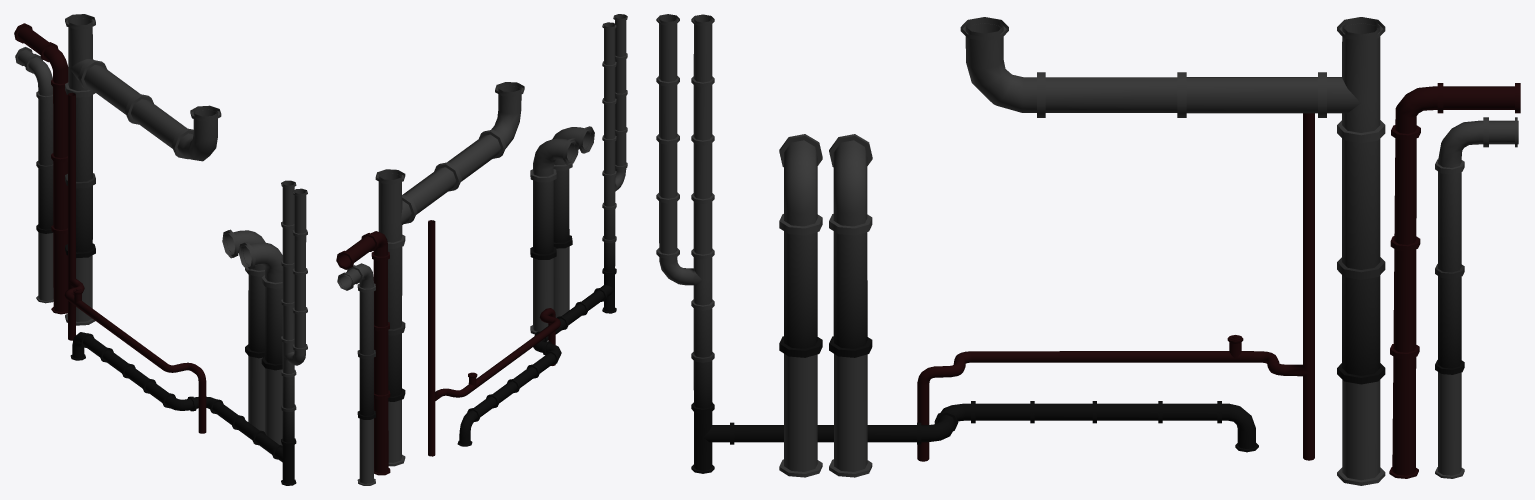
Rendered from SM_H_Building_Tide_Jail_C_04_Pipeline_ATLAS.fbx.
The picture shows the model from 3 angles, left to right: view 1: azimuth 30°, elevation 25°; view 2: azimuth 150°, elevation 25°; view 3: azimuth 270°, elevation 25°; orthographic projection. The views are drawn at different scales.
Visible parts, largest first — view 1: SM_H_Building_Tide_Jail_C_04_Pipeline_ATLAS; view 2: SM_H_Building_Tide_Jail_C_04_Pipeline_ATLAS; view 3: SM_H_Building_Tide_Jail_C_04_Pipeline_ATLAS.
Boxes of the visible parts, bbox=[...] form: SM_H_Building_Tide_Jail_C_04_Pipeline_ATLAS: bbox=[14, 14, 307, 485]; SM_H_Building_Tide_Jail_C_04_Pipeline_ATLAS: bbox=[336, 14, 627, 485]; SM_H_Building_Tide_Jail_C_04_Pipeline_ATLAS: bbox=[656, 14, 1520, 485].
Bounding box in the file's own units: 454 × 3202 × 1846.
